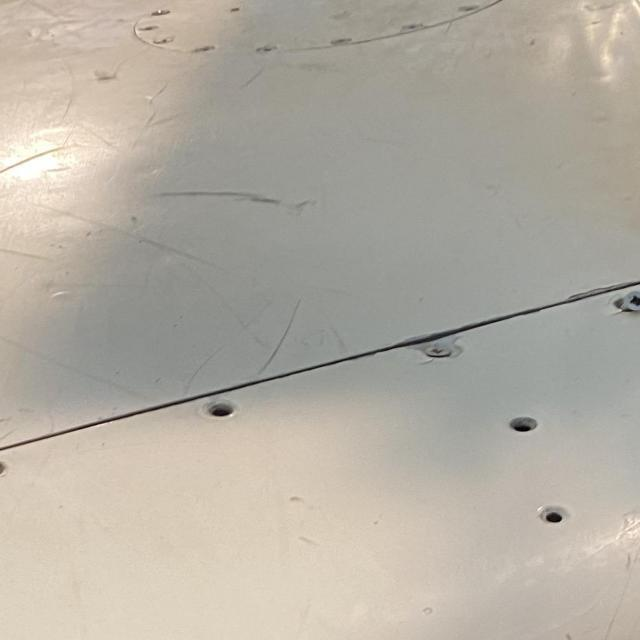Missing-head: (204, 399, 237, 419), (538, 504, 569, 523), (508, 414, 540, 431), (0, 461, 7, 476)
